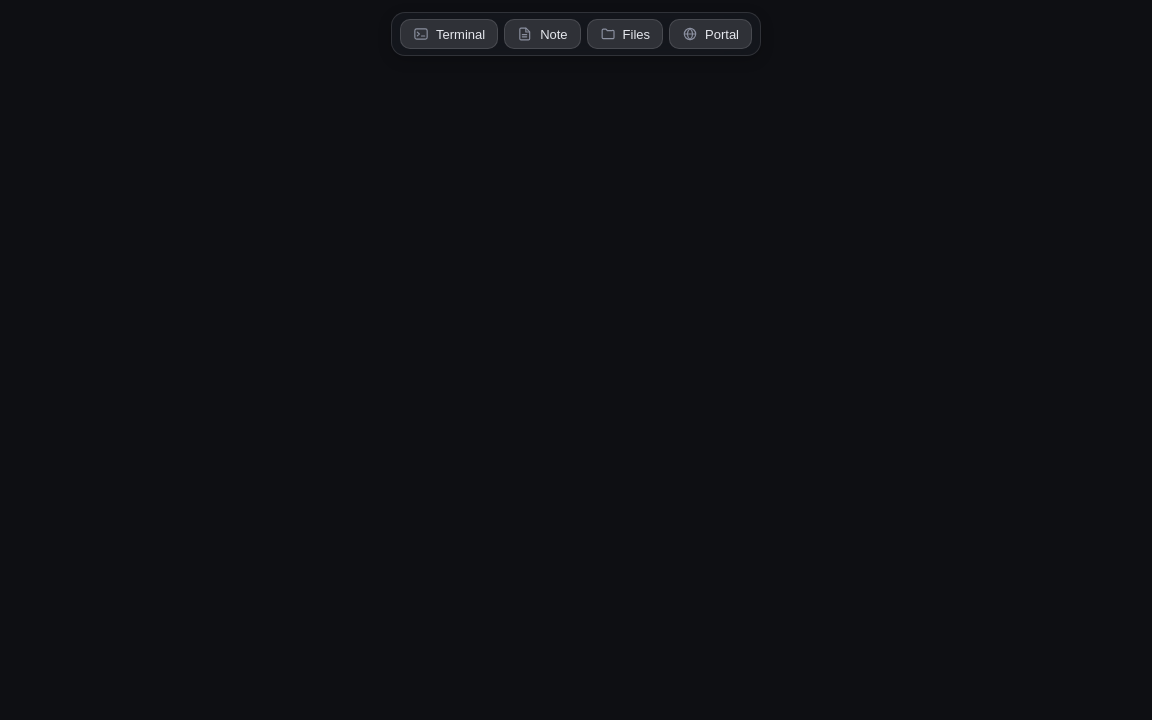
Test case: TerminalPalette › opens the preset picker only when Terminal is clicked
Expected: the text "New terminal" is not shown
Step 1. Click the button "Terminal" → [449, 34], box top-left (400, 19), bottom-right (498, 49)
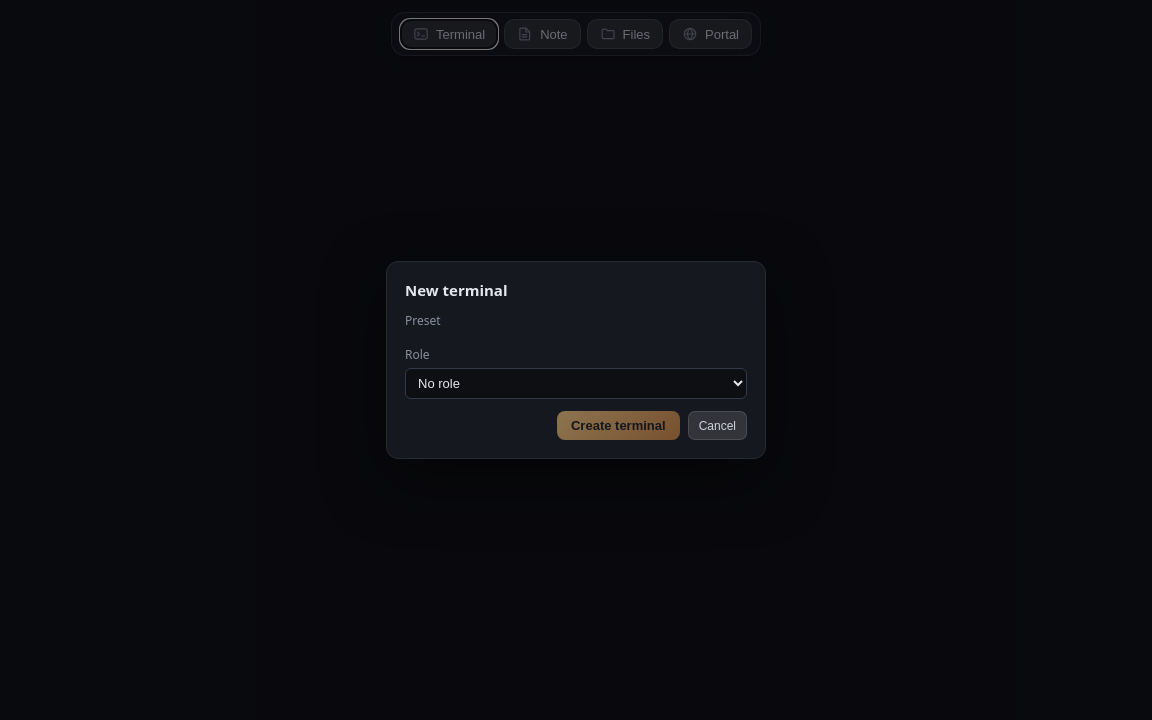
Now the heading "New terminal" is shown, box top-left (405, 280), bottom-right (508, 300)
